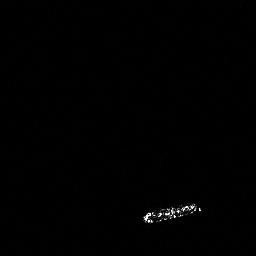ship: (142, 202, 201, 225)
